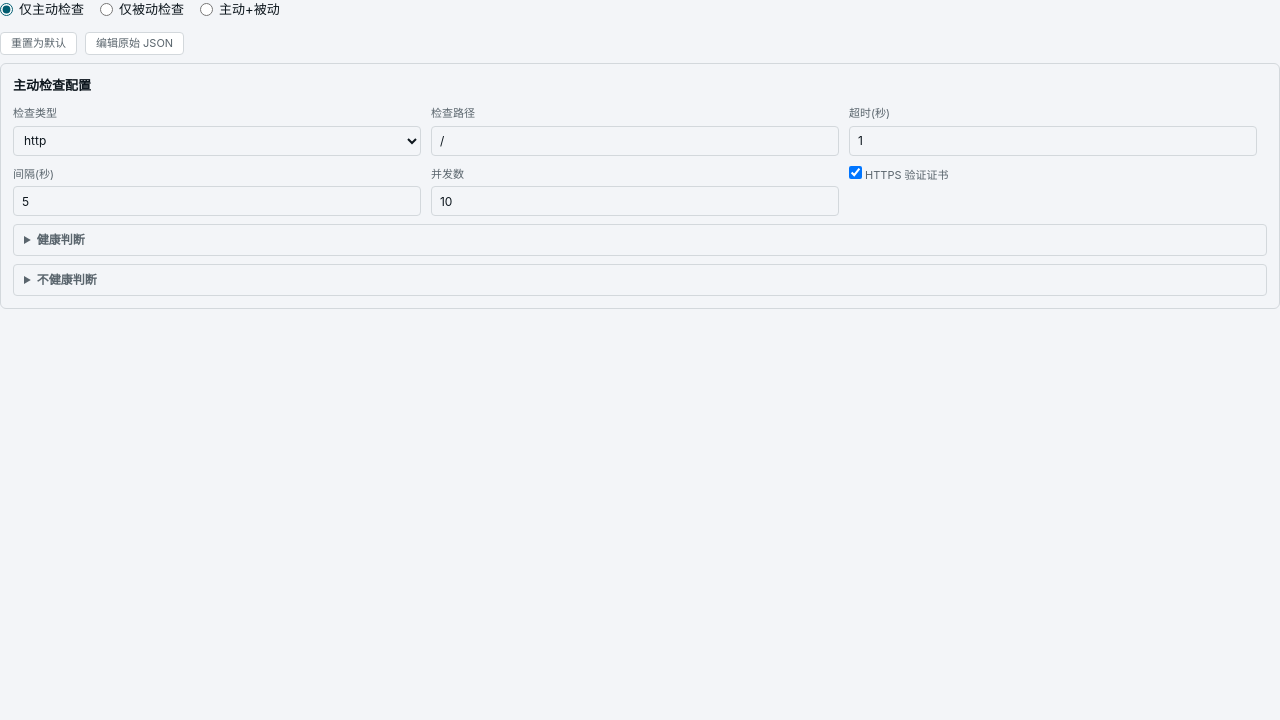
Test case: HealthCheckForm.vue › opens JSON editor modal on button click
Click the button with class "json-edit-btn". click: {"x": 135, "y": 43}
box: top-left (85, 32), bottom-right (184, 55)
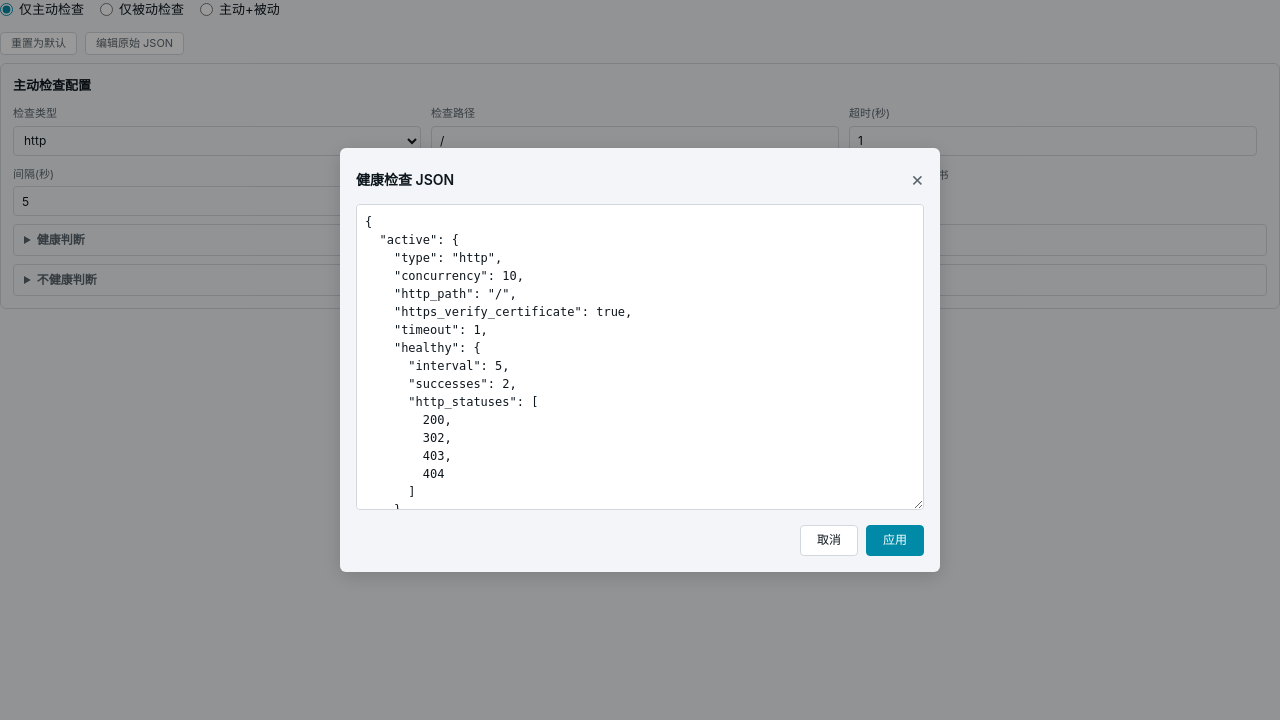
Result: the text "健康检查 JSON" is shown at top-left (356, 169), bottom-right (454, 190)
Result: the text box with class "json-textarea" is shown at top-left (356, 204), bottom-right (924, 510)
